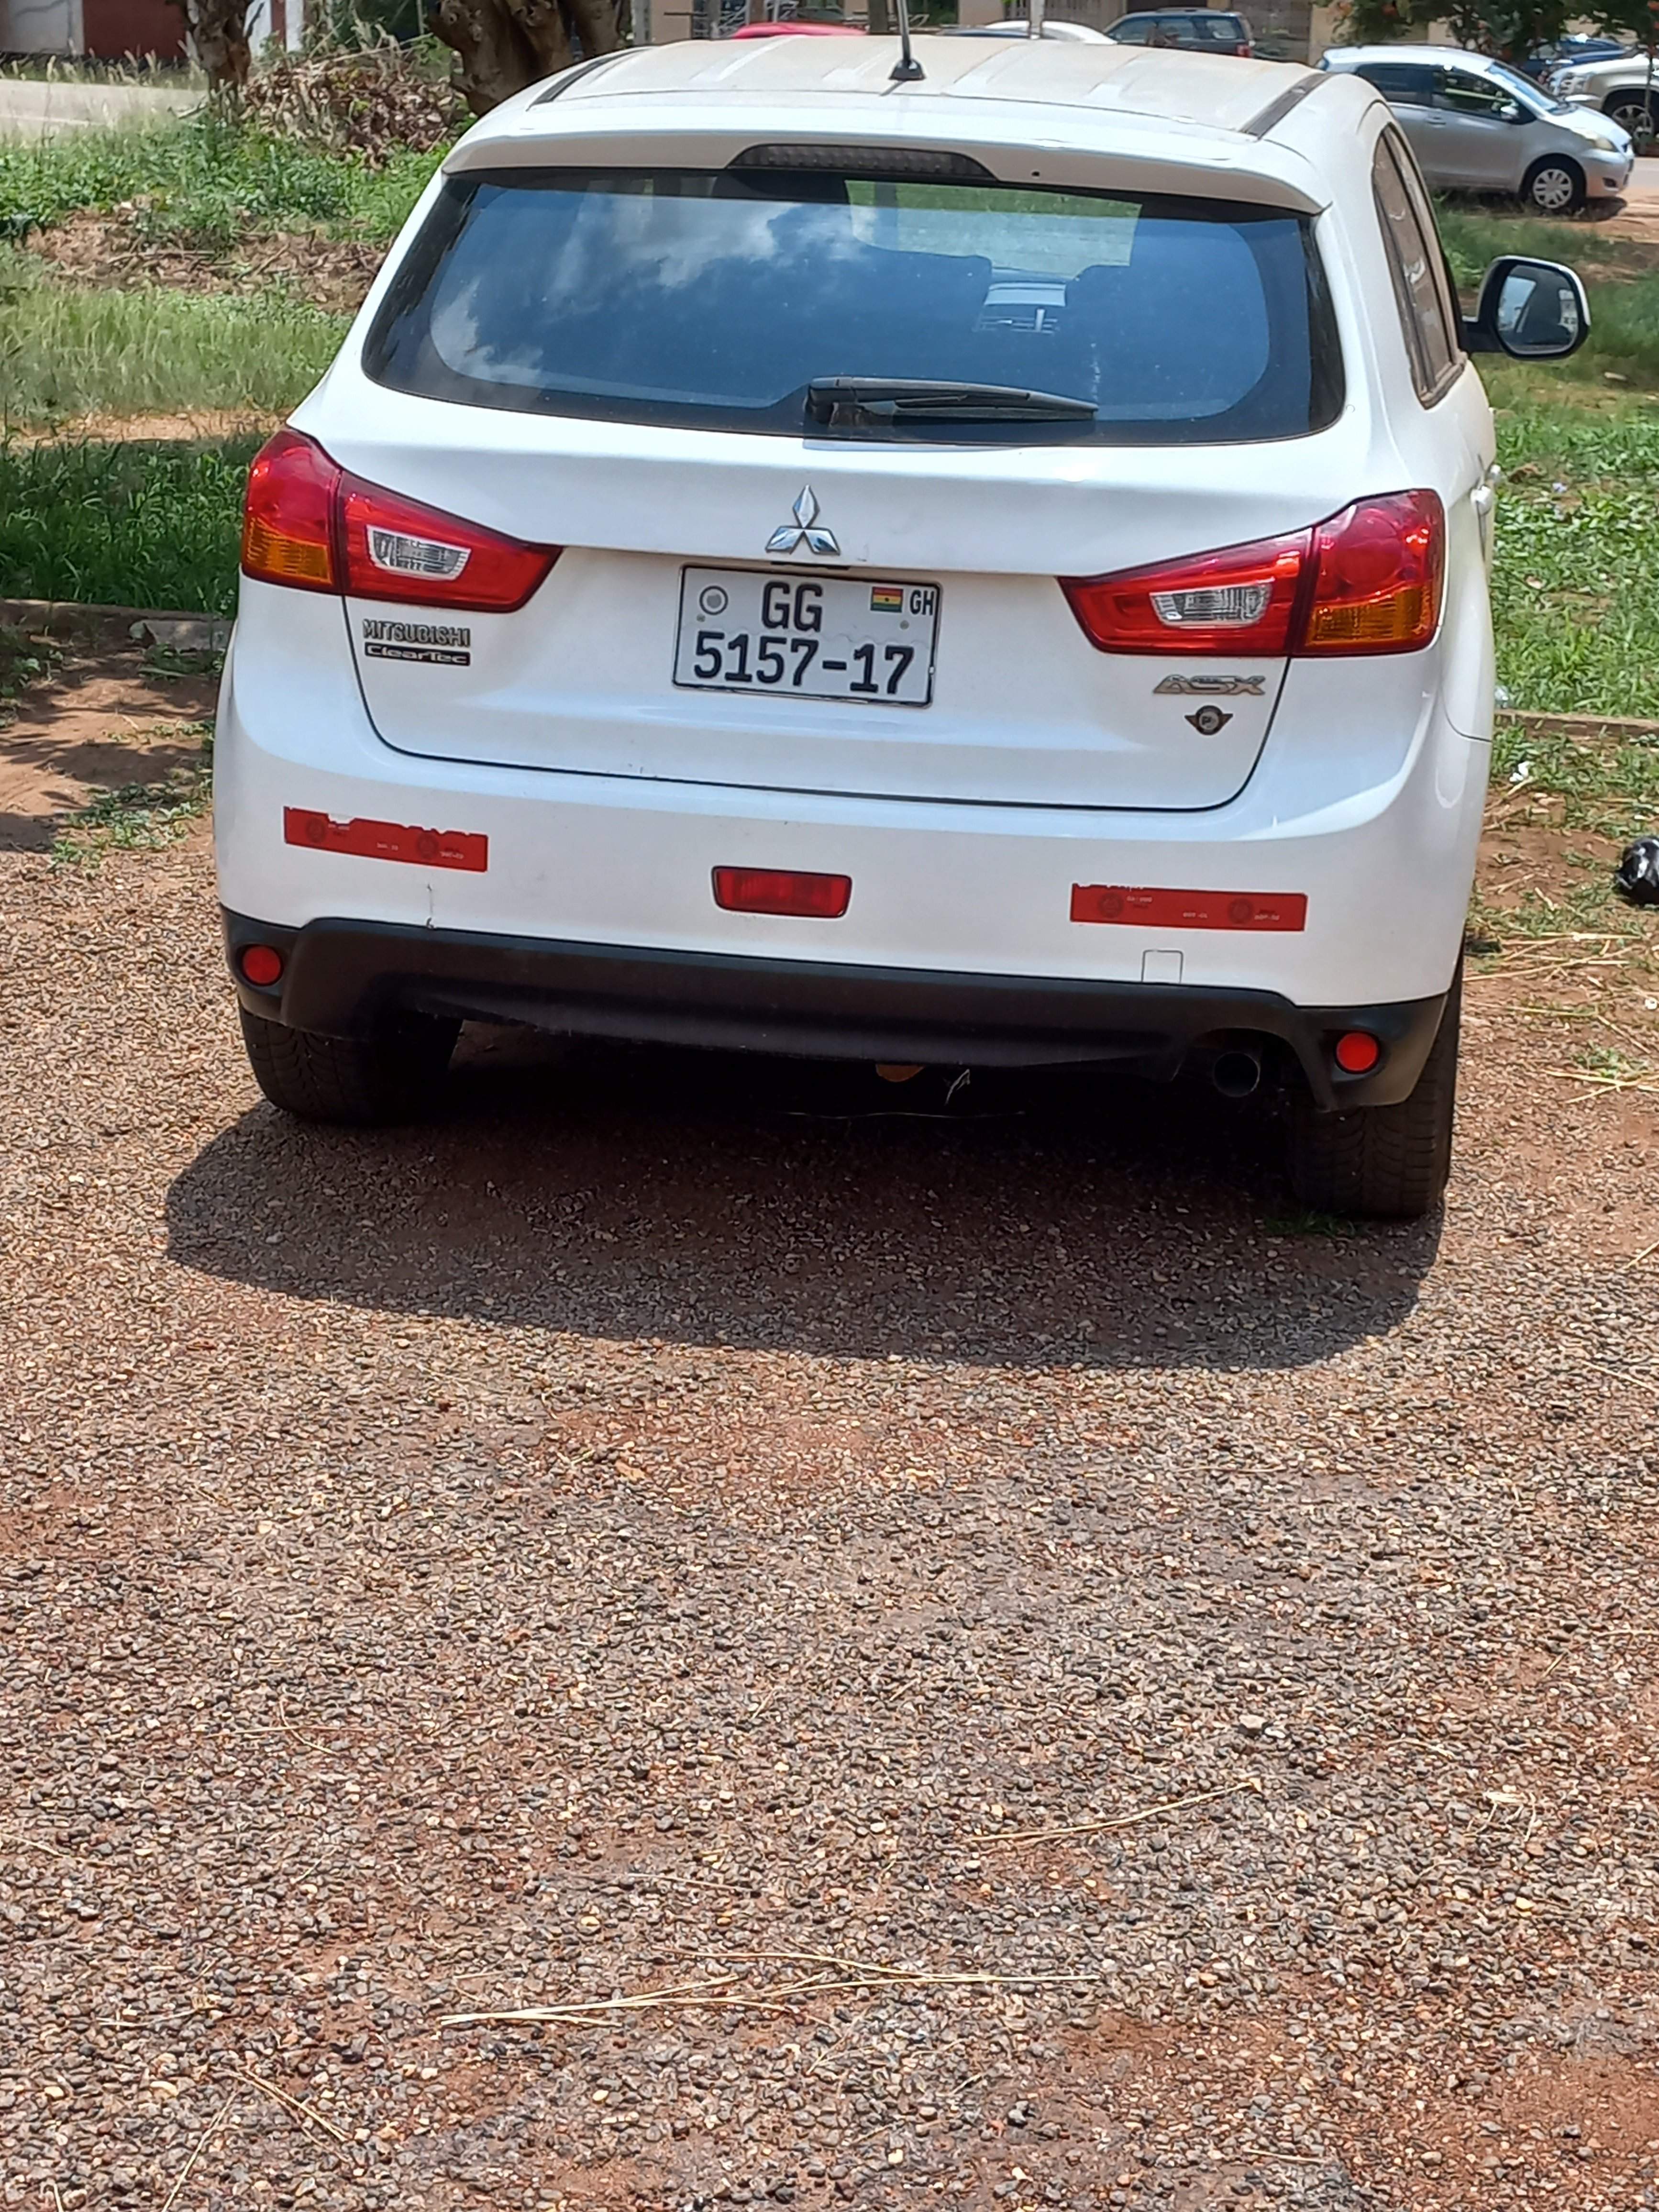number_plates: (681, 554, 949, 710)
